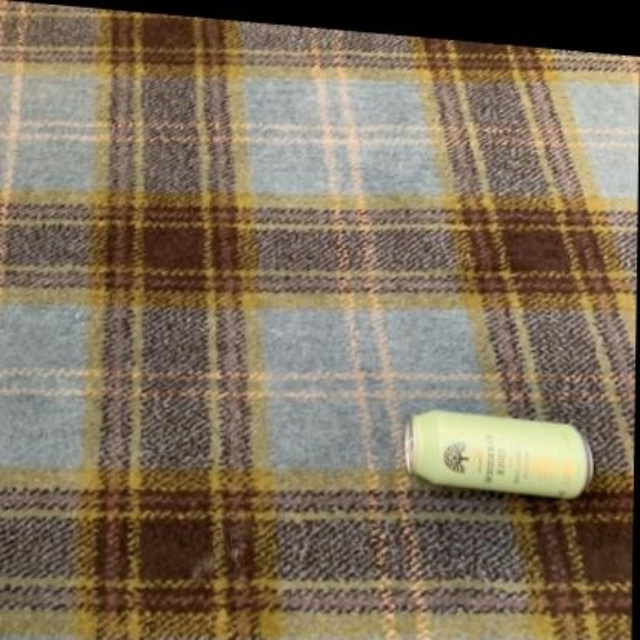trash: (405, 411, 592, 497)
